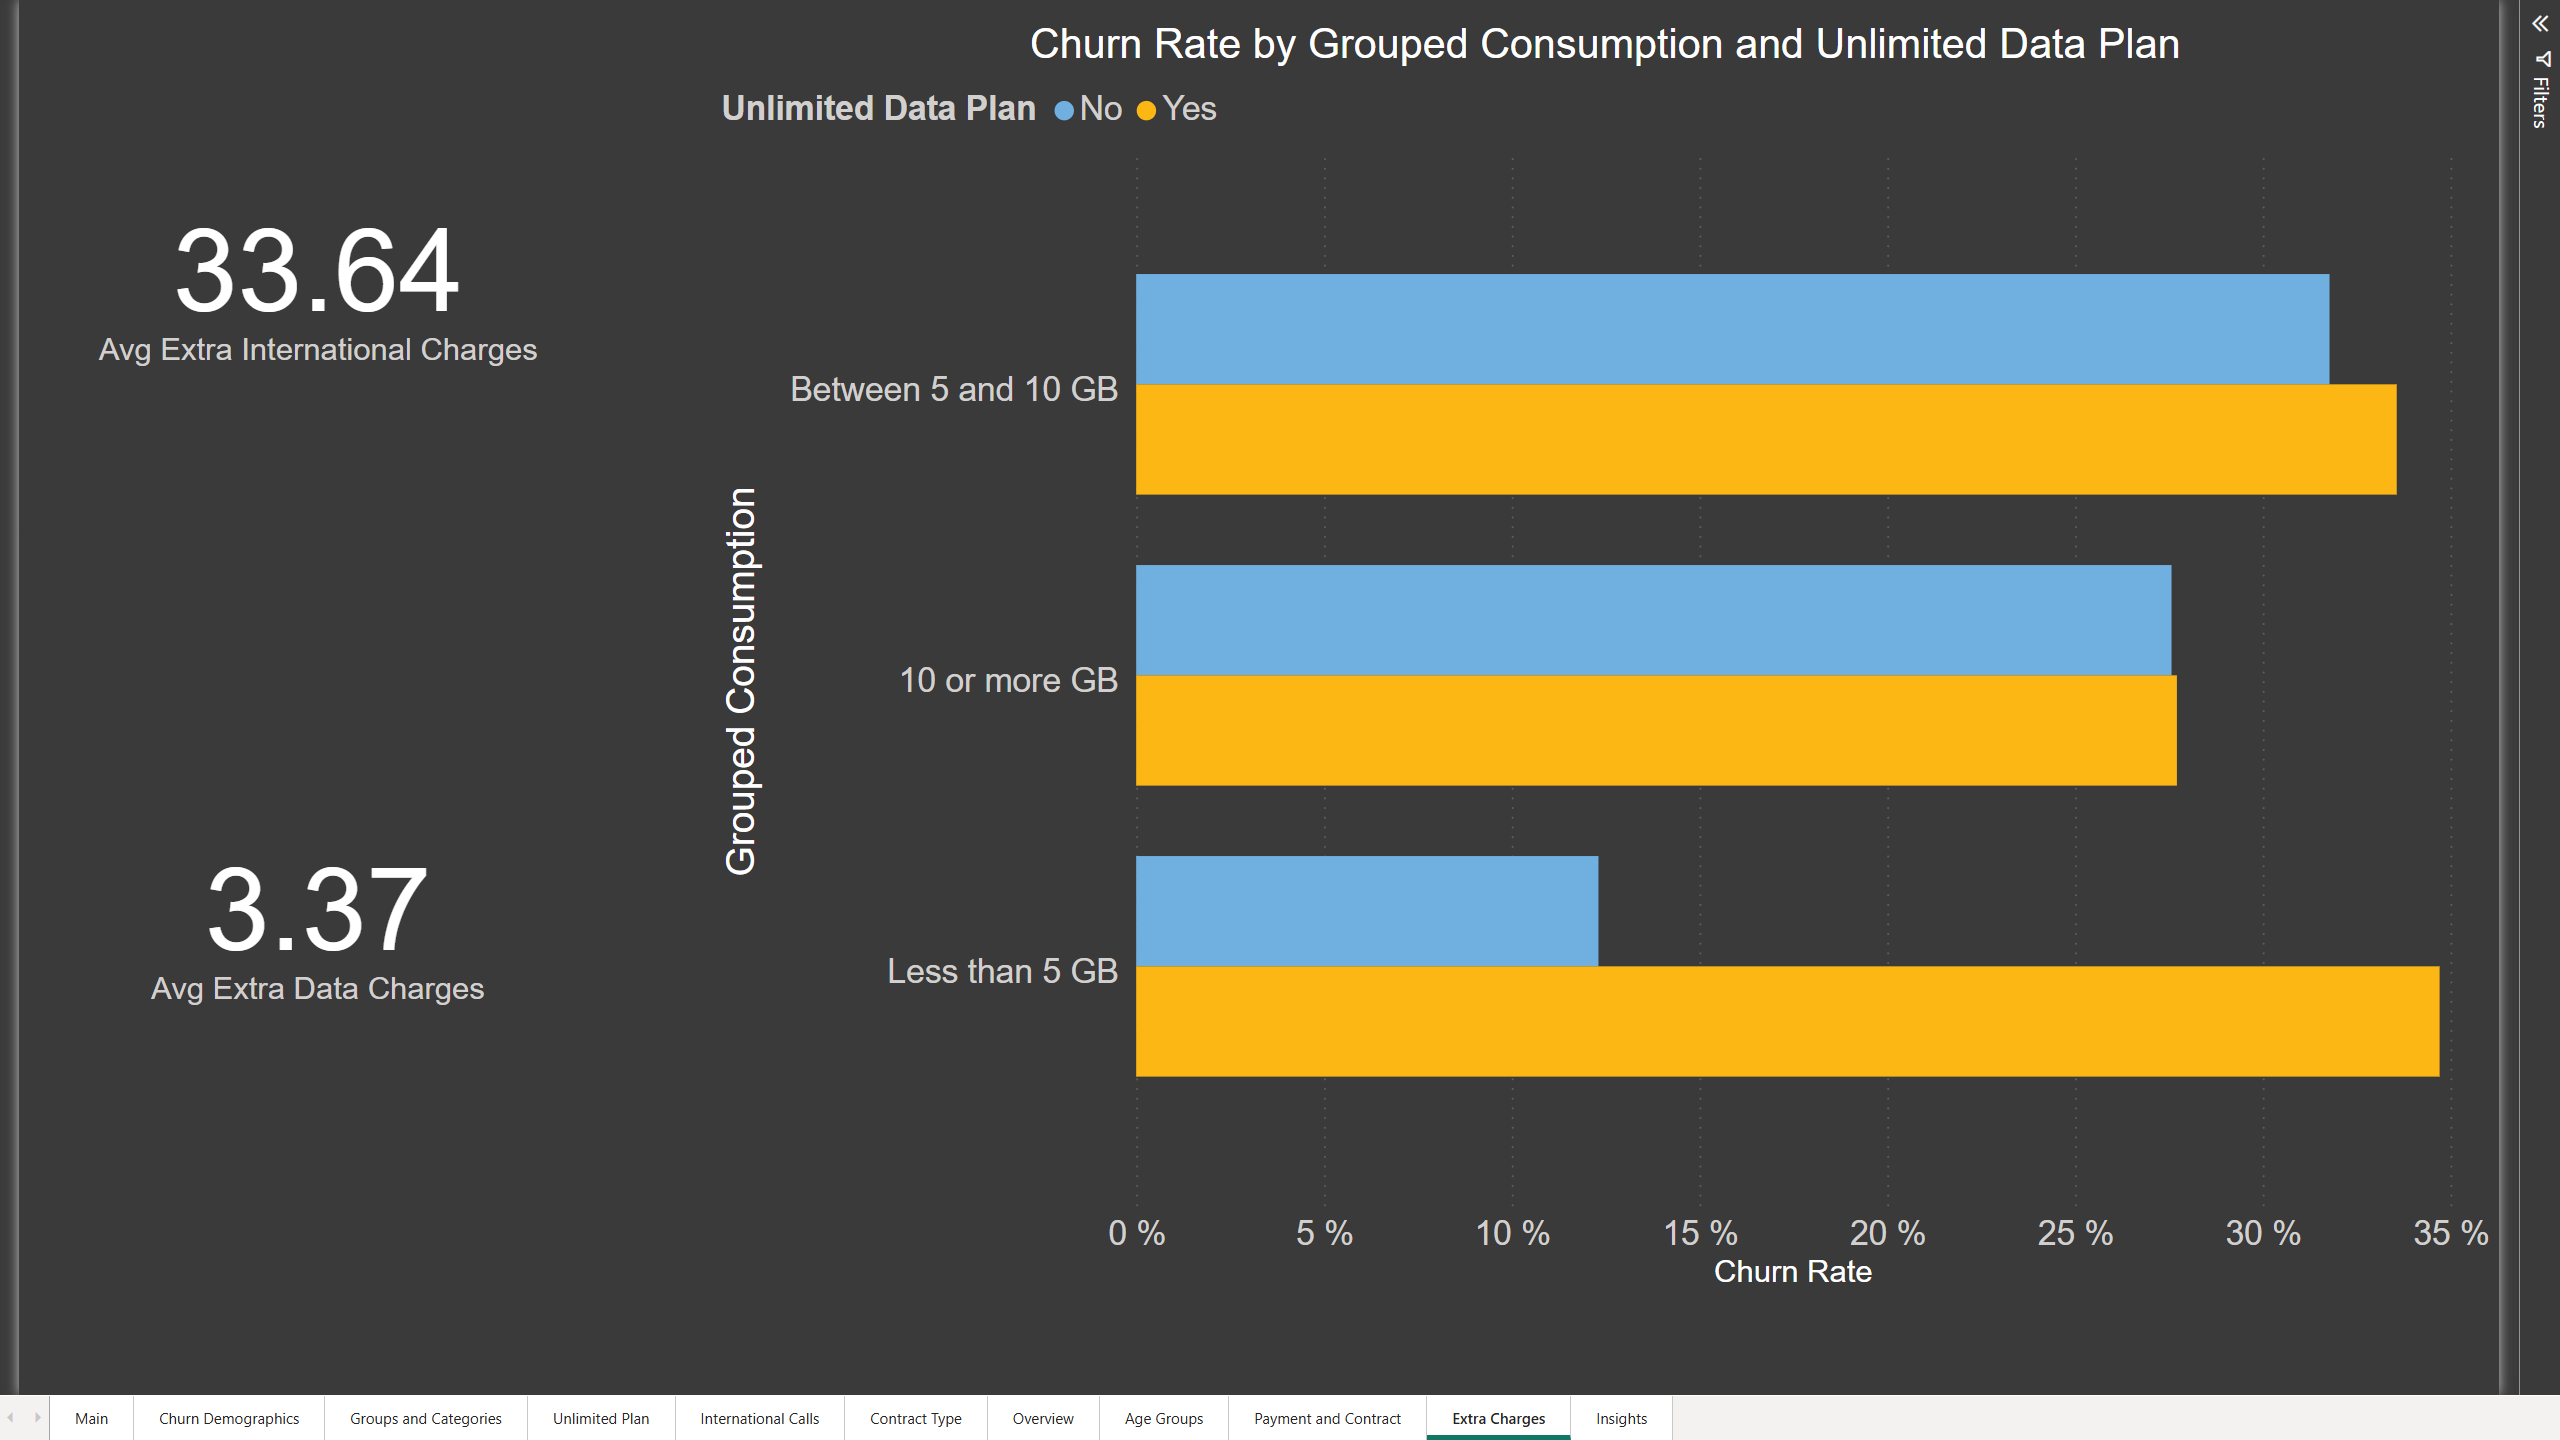

The page's visual inventory and layout, read from the dashboard file:
{"tool":"powerbi","page":{"name":"Extra Charges","canvas":[1280,720],"ordinal":9},"visuals":[{"type":"clusteredBarChart","fields":{"Category":["Databel - Data.Grouped Consumption"],"Y":["Databel - Data.Churn Rate"],"Series":["Databel - Data.Unlimited Data Plan"]},"box":[357.3,10.9,922.7,658.6],"z":0},{"type":"card","fields":{"Values":["Databel - Data.Avg Extra International Charges"]},"box":[0,10.7,309.3,264.9],"z":1000},{"type":"card","fields":{"Values":["Databel - Data.Avg Extra Data Charges"]},"box":[0,276,309,394],"z":2000}]}

Visuals, with their boxes on the page's 1280x720 design canvas (x1, y1, x2, y2). These are canvas units, not pixel positions in the 2560x1440 screenshot, which may show the page scaled, cropped or inside an application window:
clusteredBarChart - Databel - Data.Grouped Consumption x Databel - Data.Churn Rate: <box>357,11,1280,670</box>
card - Databel - Data.Avg Extra International Charges: <box>0,11,309,276</box>
card - Databel - Data.Avg Extra Data Charges: <box>0,276,309,670</box>
